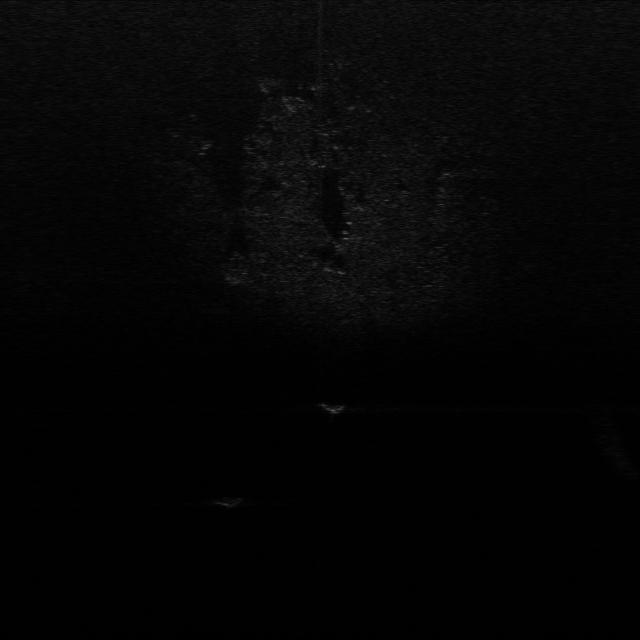cube: (212, 487, 250, 511)
square cage: (314, 395, 350, 419)
